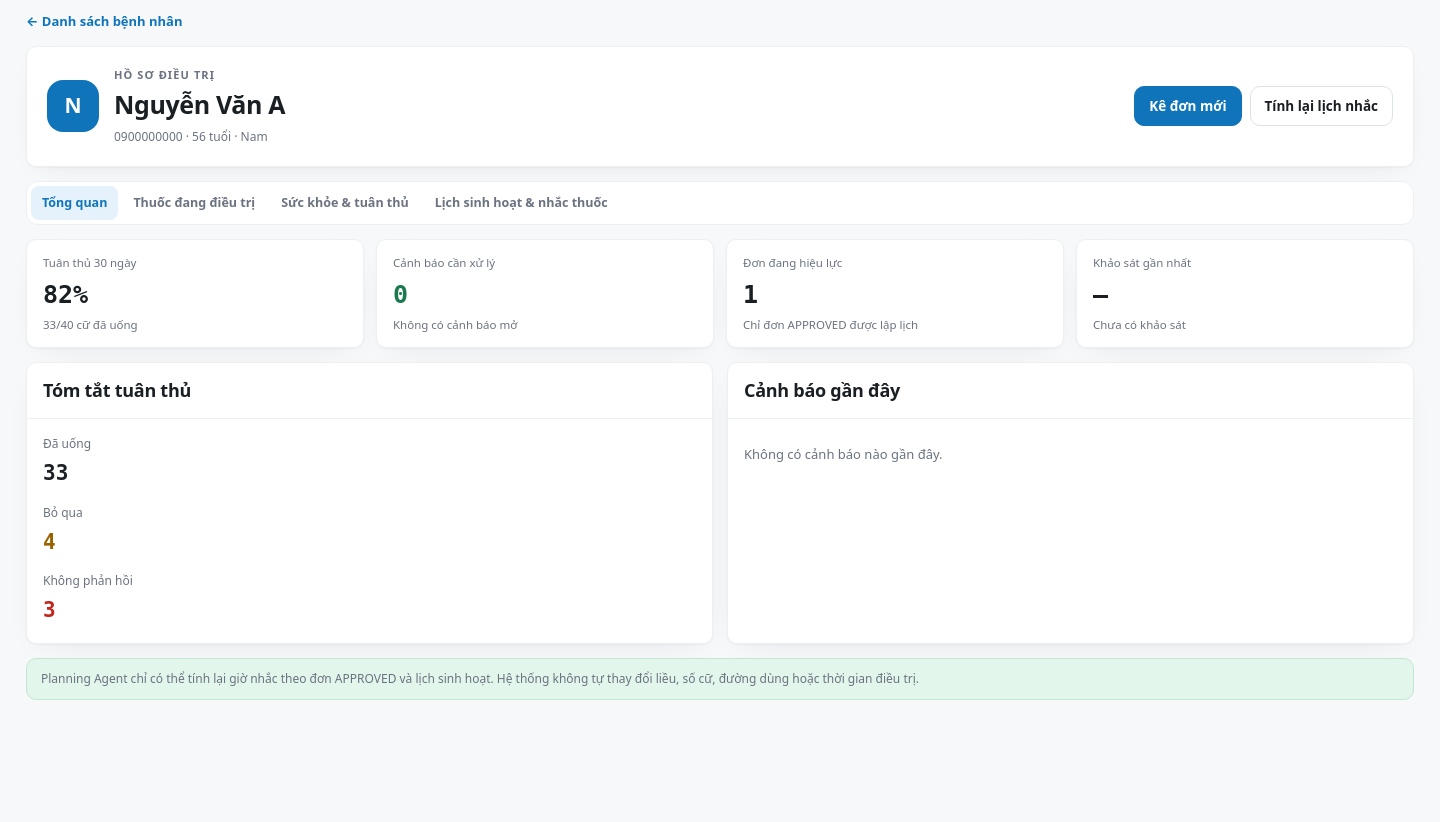
PatientDetailPage › switches to the Health & adherence tab and shows adherence/survey data
Expected: the heading "Nguyễn Văn A" is shown, [114, 86, 285, 124]
Click the tab "Sức khỏe & tuân thủ". click: {"x": 345, "y": 203}
box: [270, 186, 420, 220]
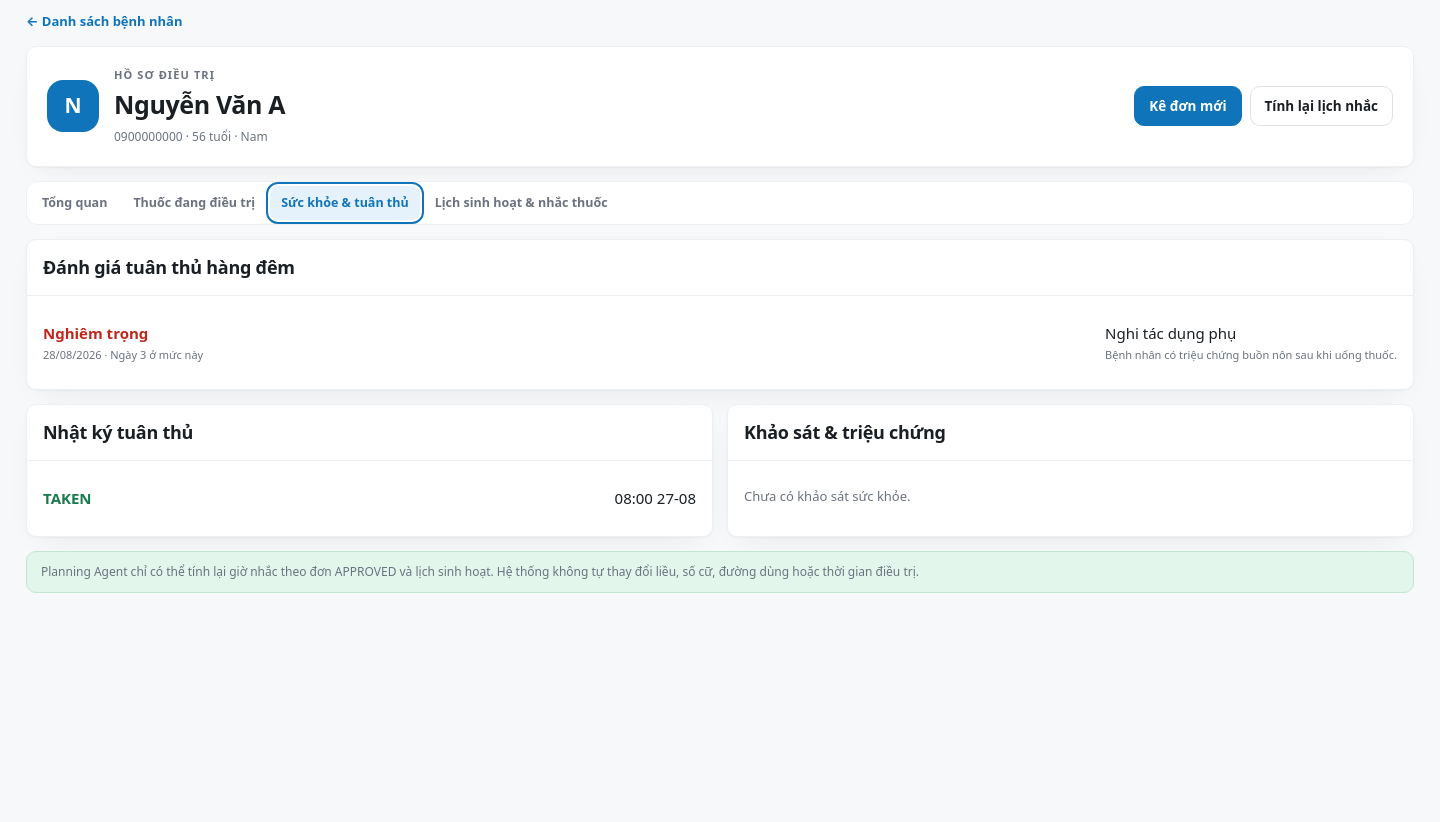
Now the text "TAKEN" is shown, box [43, 487, 92, 510]
Now the text "Nghiêm trọng" is shown, box [43, 323, 148, 343]
Now the text "28/08/2026 · Ngày 3 ở mức này" is shown, box [43, 347, 203, 363]
